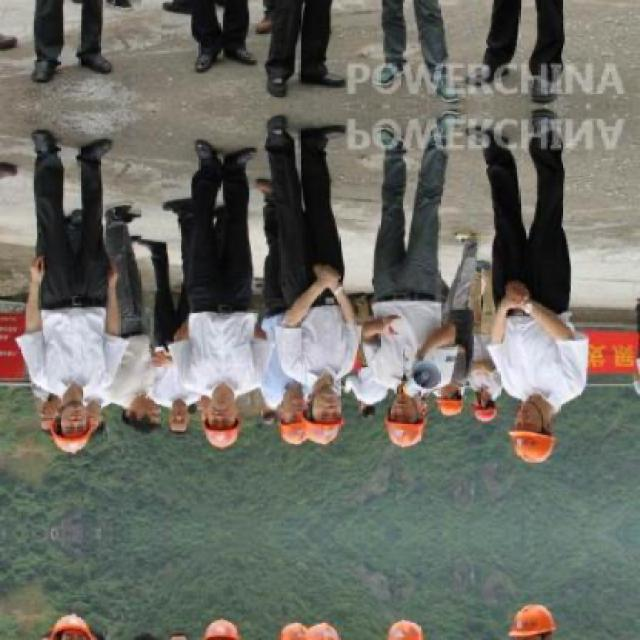con casco: (22, 376, 122, 449), (372, 370, 450, 452), (510, 396, 568, 476), (274, 385, 323, 468), (291, 366, 343, 437), (201, 386, 235, 450)
